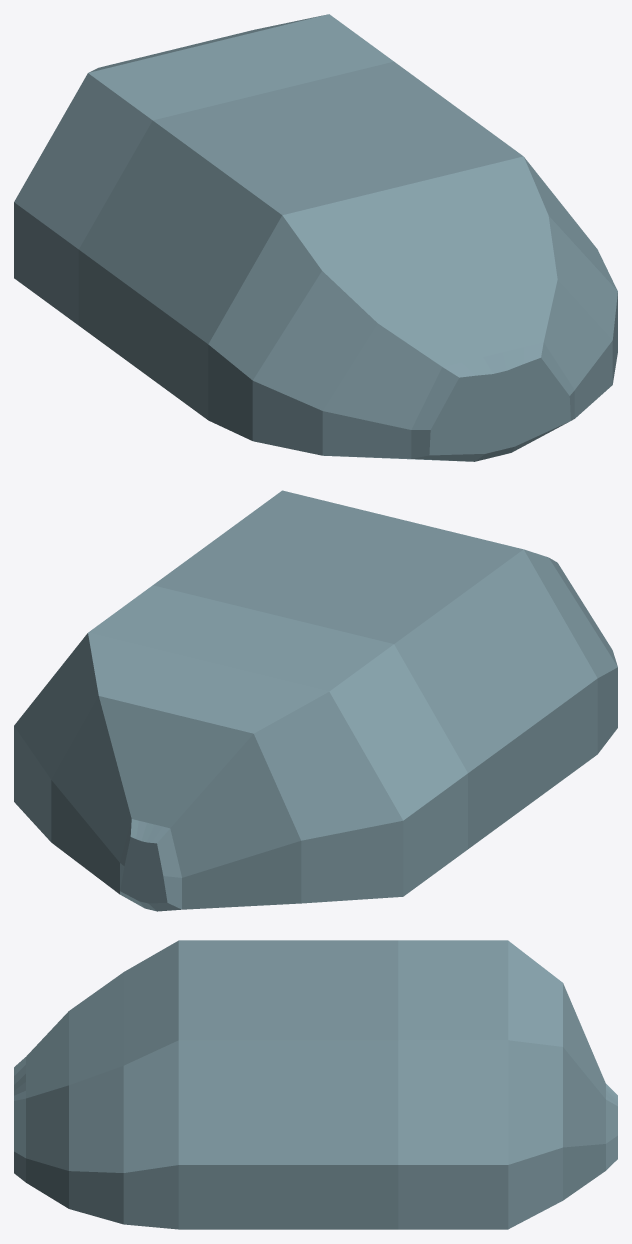
The model's file is ballard_oddball_a.glb.
3 renders of one model, top to bottom at view 1: azimuth 30°, elevation 25°; view 2: azimuth 150°, elevation 25°; view 3: azimuth 270°, elevation 25°, orthographic. The views are drawn at different scales.
Parts seen in each view (by area): view 1: ballard_oddball_a; view 2: ballard_oddball_a; view 3: ballard_oddball_a.
Boxes of the visible parts, x1,y1,x2,y2 form: ballard_oddball_a: (14, 14, 617, 461); ballard_oddball_a: (14, 490, 617, 911); ballard_oddball_a: (14, 940, 617, 1229).
Size of the model in its own units: 4.1 by 2.07 by 6.5.
